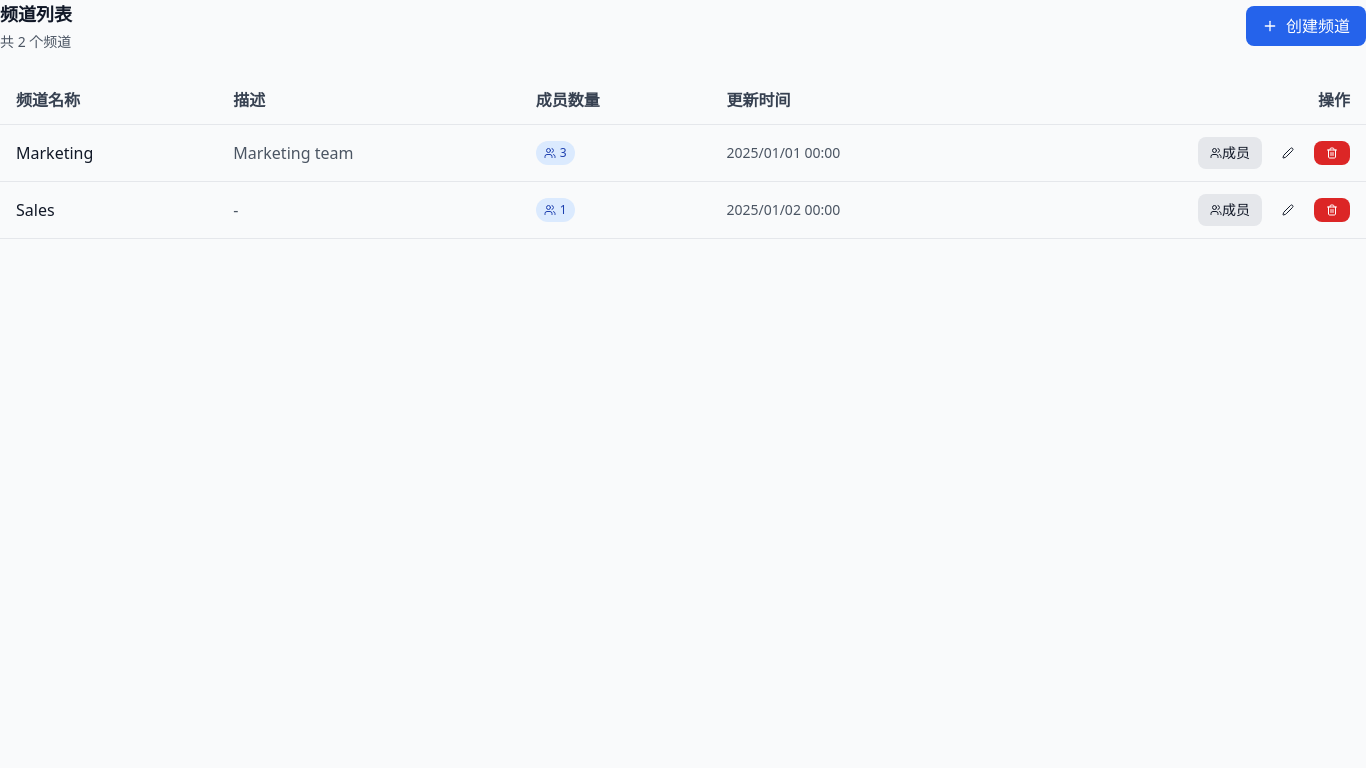
Test: ChannelManagementTab › Member Management › 「成员」ボタンをクリックするとメンバーモーダルが開く
The image size is (1366, 768).
Expected: the text "Marketing" is shown, 16,142 -> 93,164
Click the button "成员" in the row of "Marketing team".
click(1230, 153)  # box 1198,137 -> 1262,169
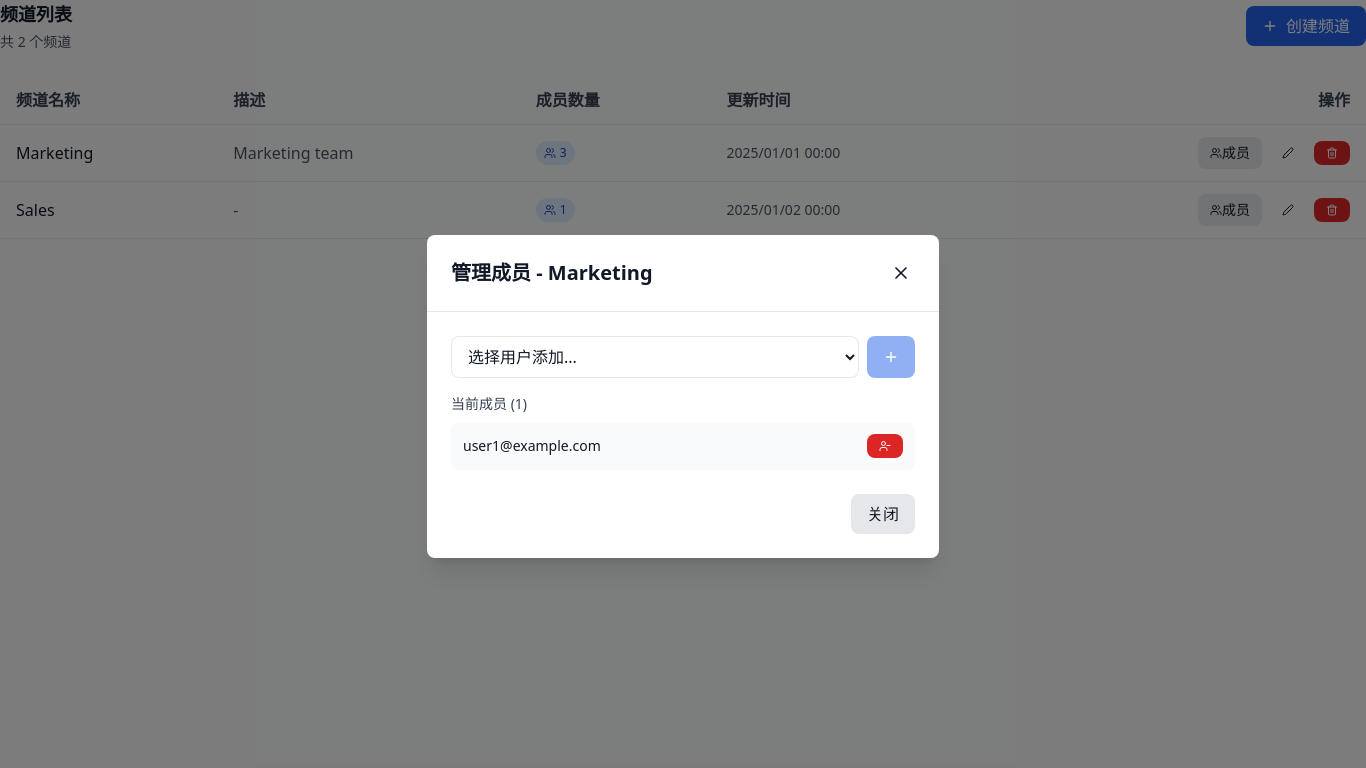
Now the dialog is shown, box 427,234 -> 939,558
